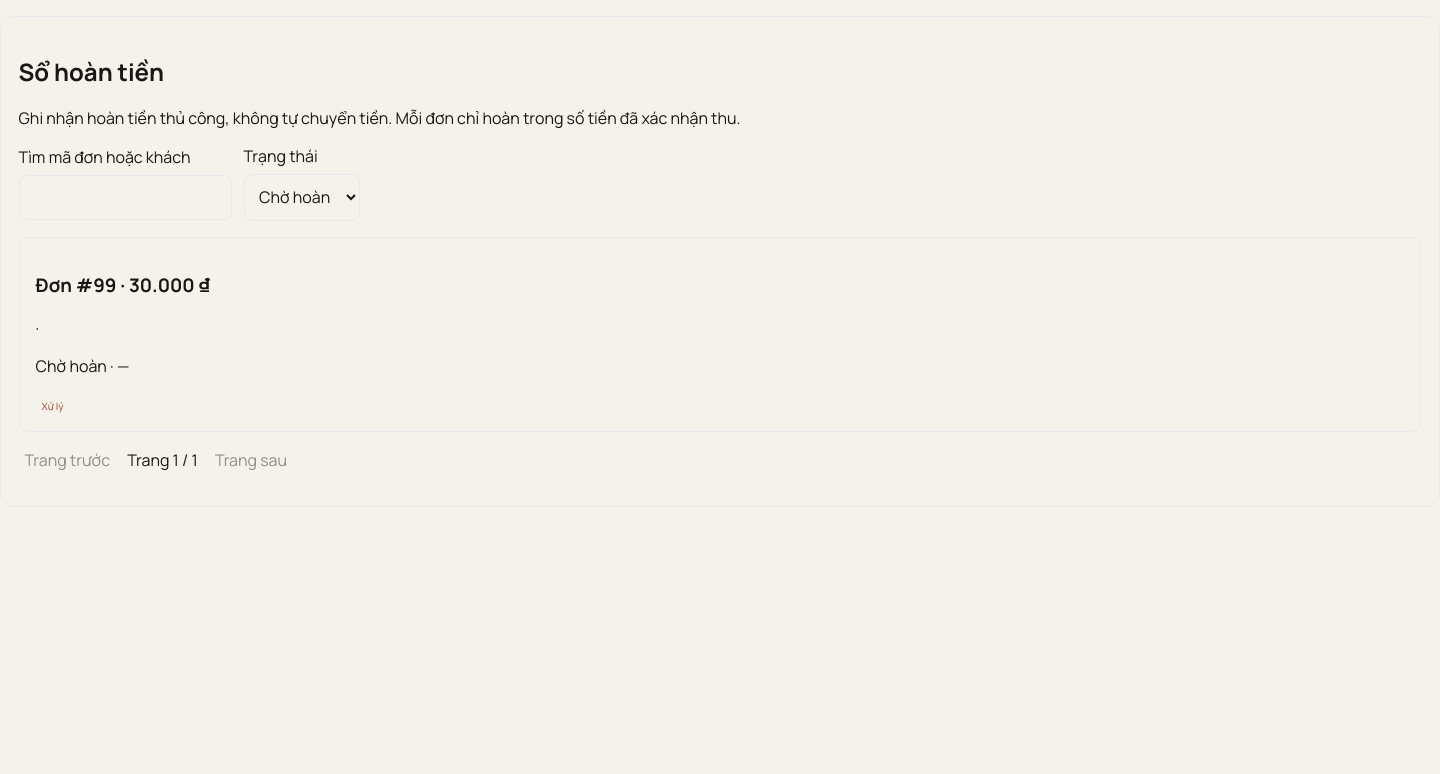
requires a transfer reference and keeps process notes on API failure
The width and height of the screenshot is (1440, 774).
Click the button "Xử lý" at (53, 406), box 36,398 -> 70,414
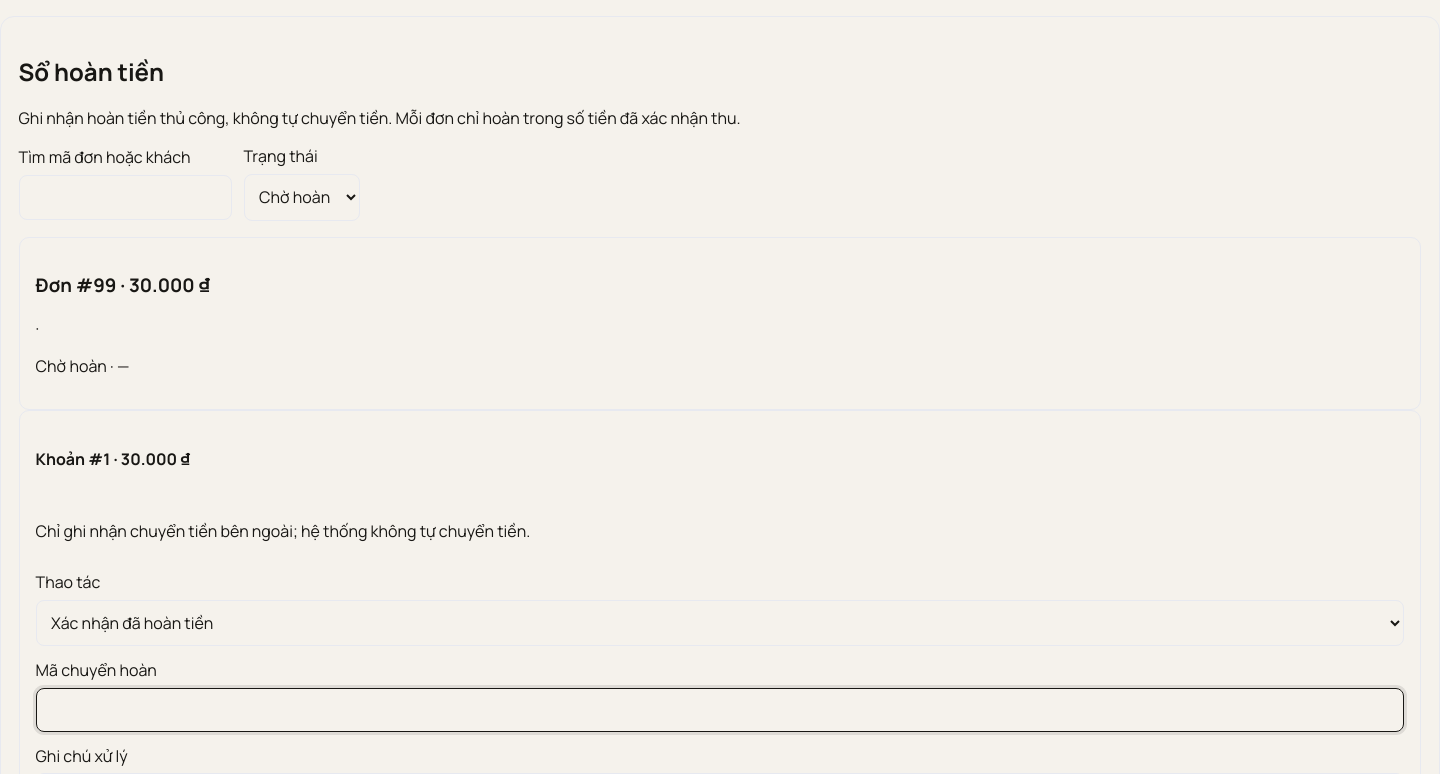
Type "BANK-1" into the field labelled "Mã chuyển hoàn" at (720, 710), box 36,688 -> 1404,732
(page scrolled)
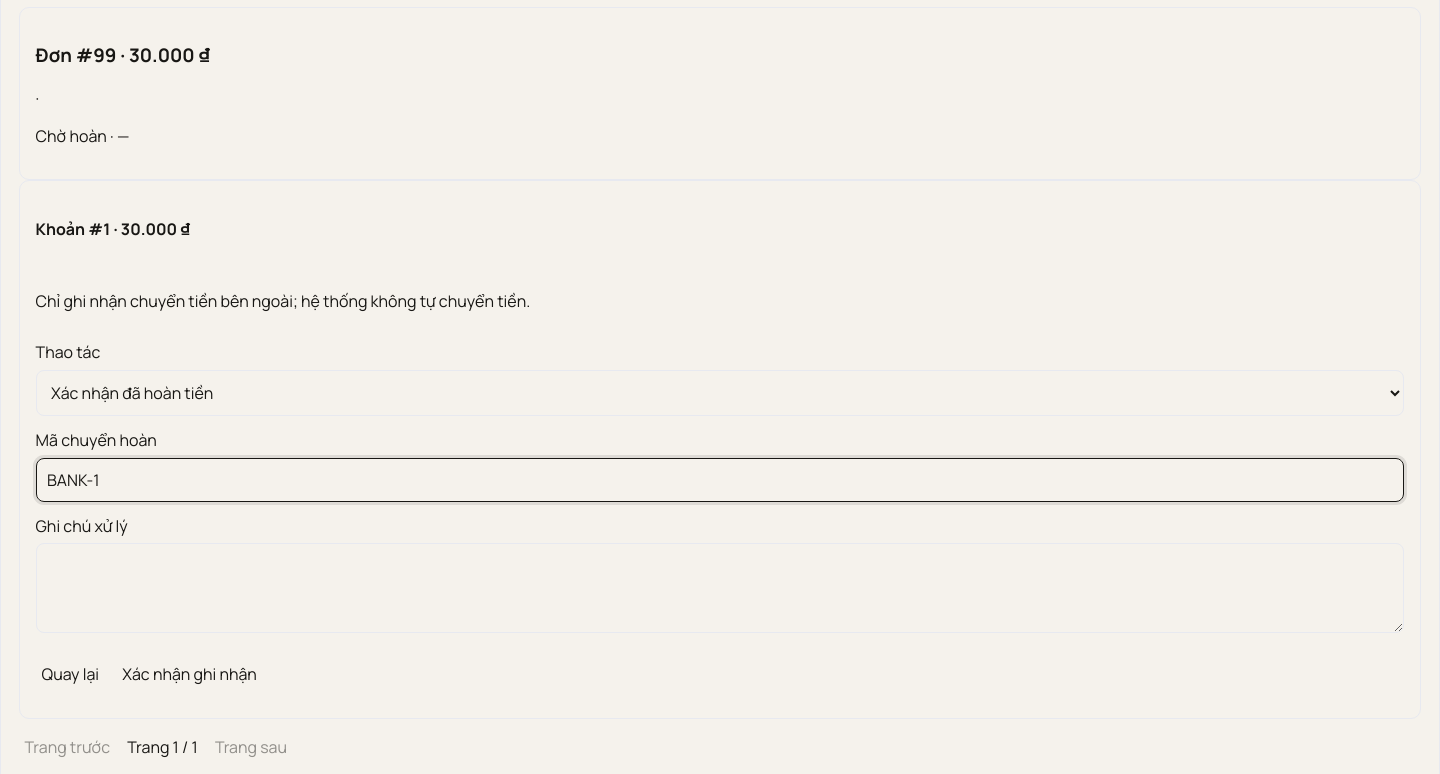
Type "Ghi chú giữ lại" into the text box labelled "Ghi chú xử lý" at (720, 588), box 36,544 -> 1404,634
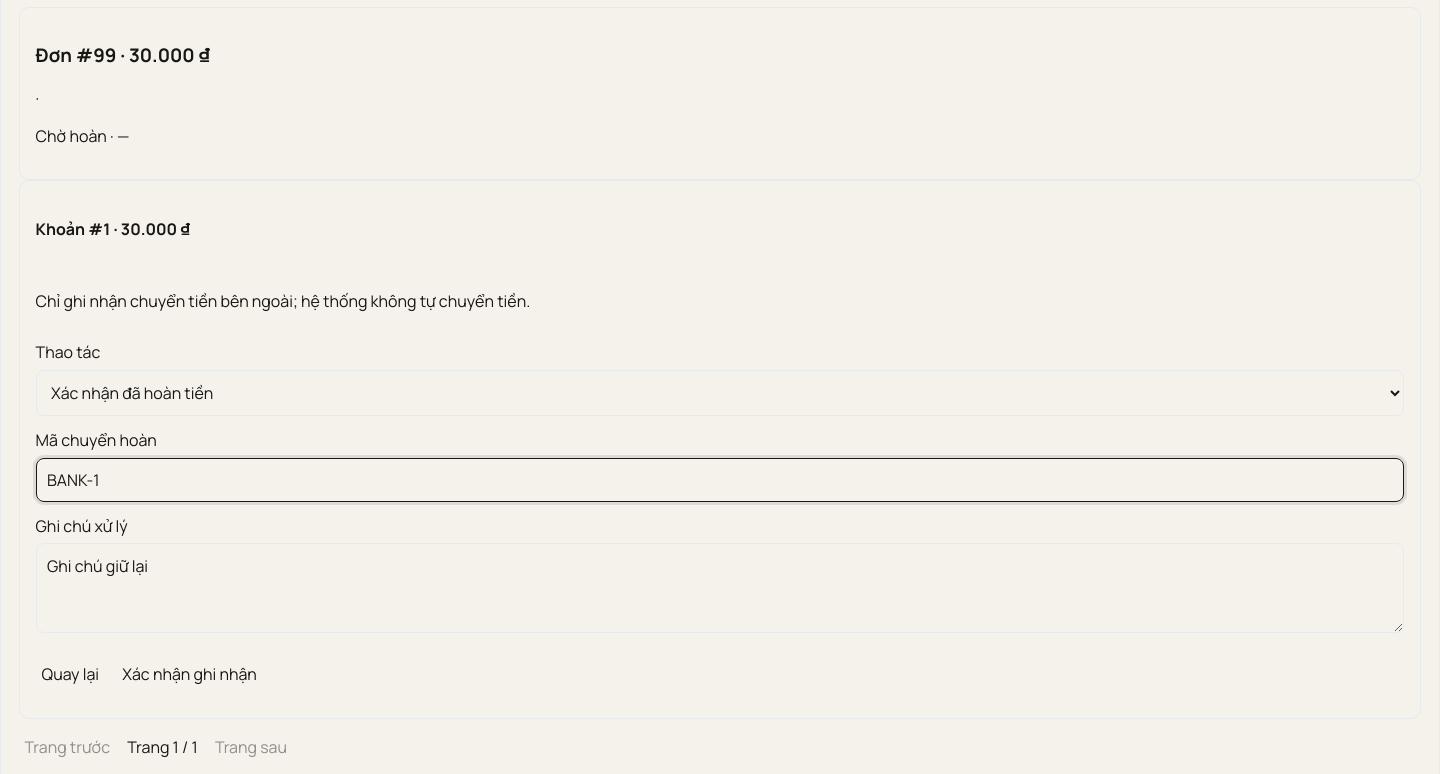
Submit the form named "Xử lý khoản hoàn"
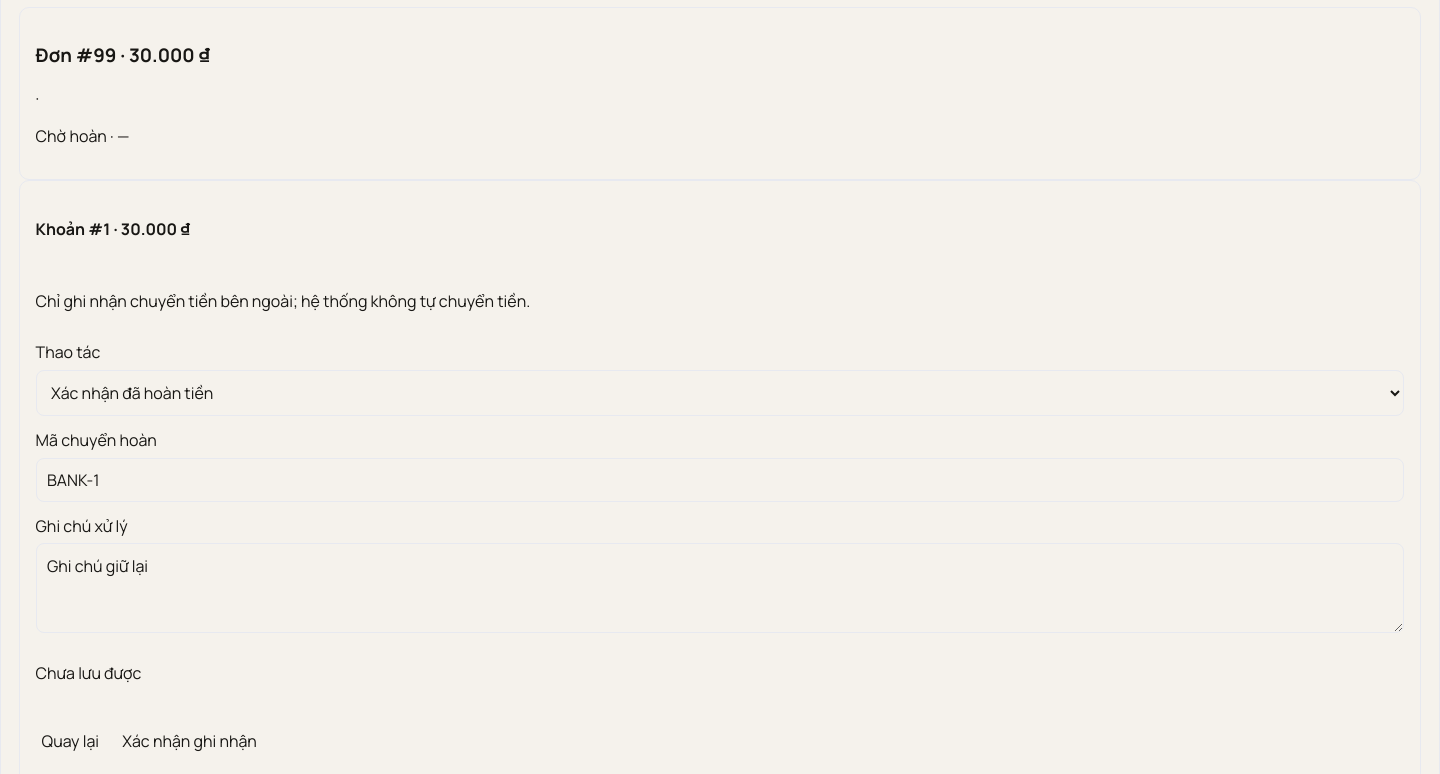
Expected: the text "Chưa lưu được" is shown, 36,662 -> 141,684
